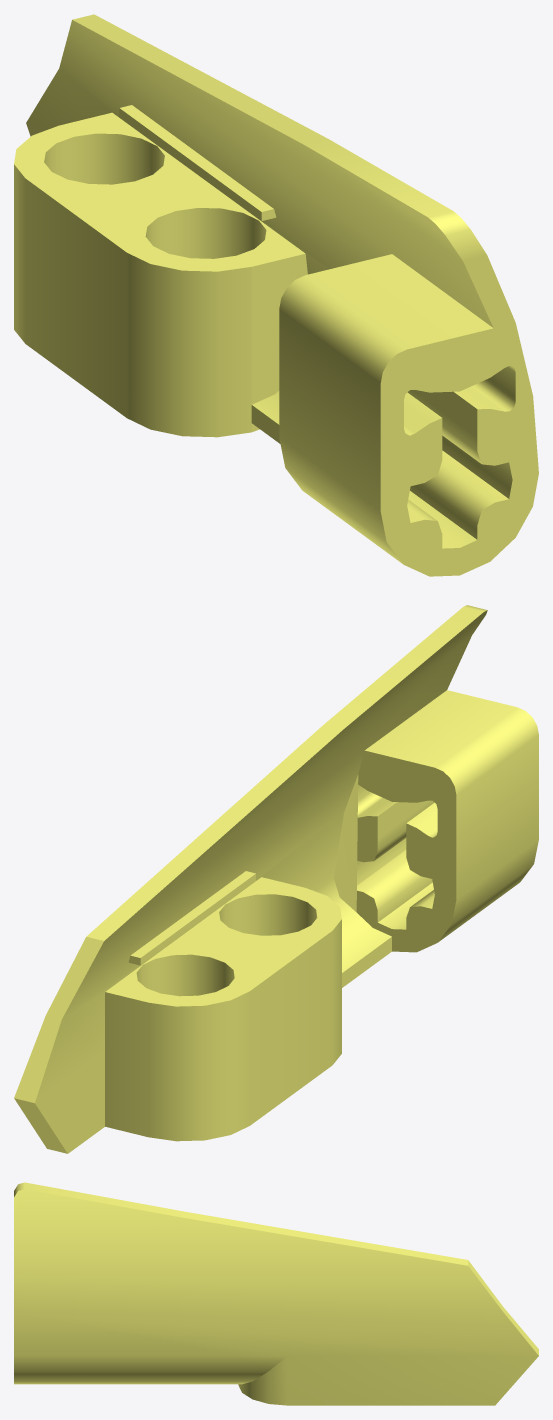
The picture shows the model from 3 angles, top to bottom: view 1: azimuth 30°, elevation 25°; view 2: azimuth 150°, elevation 25°; view 3: azimuth 270°, elevation 25°; orthographic projection. The views are drawn at different scales.
Parts seen in each view (by area): view 1: 11947.dat; view 2: 11947.dat; view 3: 11947.dat.
Boxes of the visible parts, <box> form: 11947.dat: <box>14,14,538,576</box>; 11947.dat: <box>14,605,538,1153</box>; 11947.dat: <box>14,1182,538,1405</box>.
Bounding box in the file's own units: 0.0072 × 0.0159 × 0.0384.
